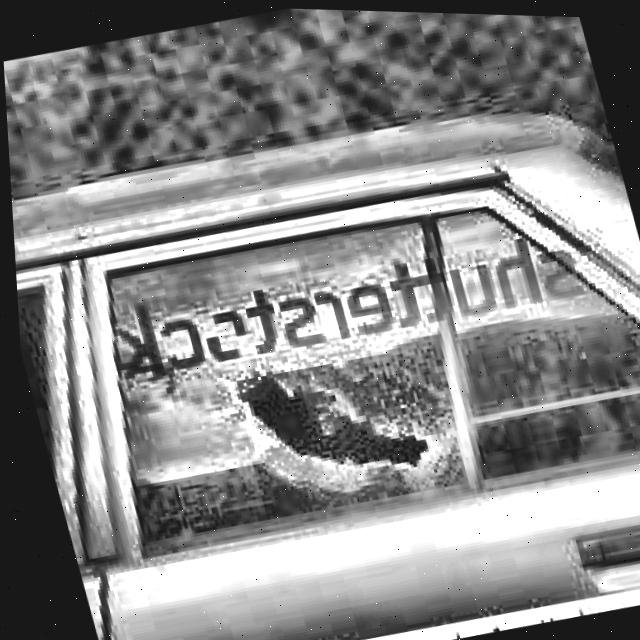glass_shatter: (232, 337, 442, 509)
